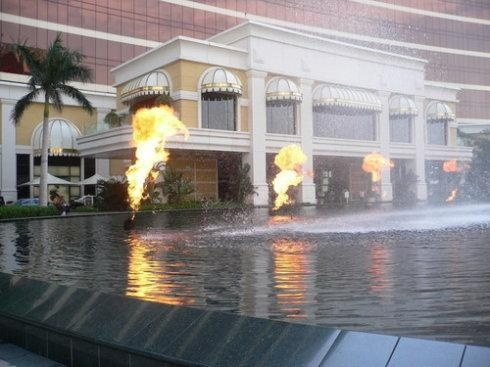fire: (123, 100, 185, 208), (269, 142, 309, 209), (360, 150, 391, 181), (441, 157, 459, 171)
